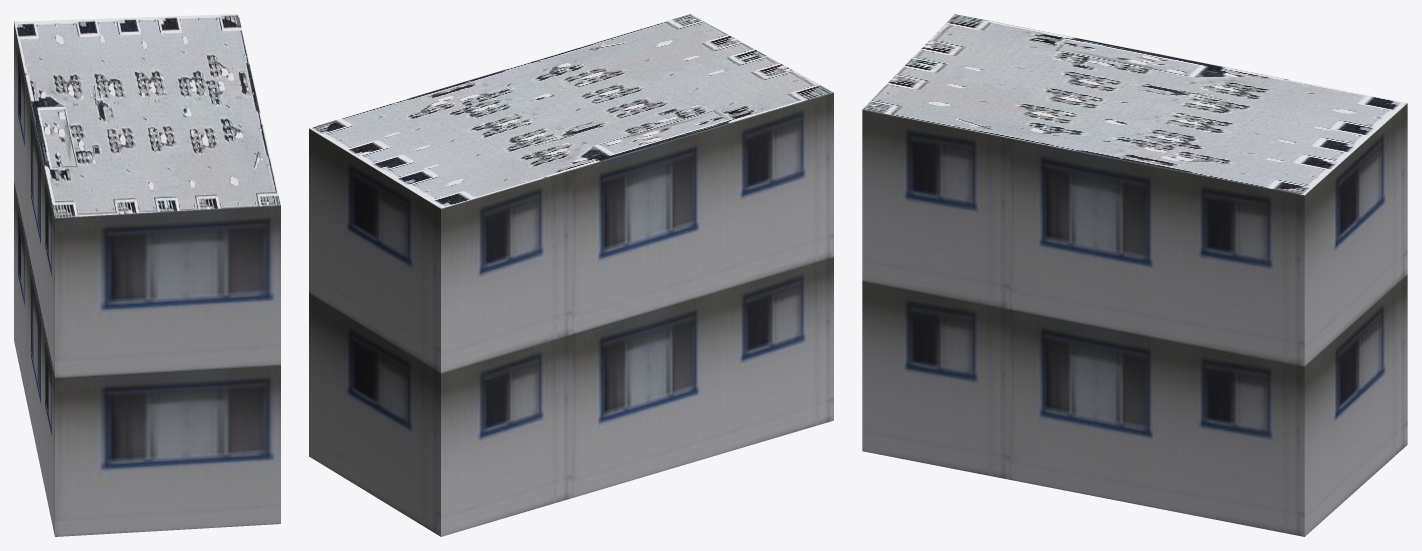
File: ResTex__5180.fbx
3 renders of one model, left to right at view 1: azimuth 30°, elevation 25°; view 2: azimuth 150°, elevation 25°; view 3: azimuth 270°, elevation 25°, orthographic. The views are drawn at different scales.
Visible parts, largest first — view 1: CityEngineMaterial_9_m, CityEngineMaterial_m; view 2: CityEngineMaterial_9_m, CityEngineMaterial_m; view 3: CityEngineMaterial_9_m, CityEngineMaterial_m.
Part boxes in pixels (x1=…): CityEngineMaterial_9_m: x1=14, y1=22, x2=280, y2=536; CityEngineMaterial_m: x1=14, y1=14, x2=280, y2=217; CityEngineMaterial_9_m: x1=309, y1=92, x2=833, y2=536; CityEngineMaterial_m: x1=309, y1=14, x2=833, y2=208; CityEngineMaterial_9_m: x1=862, y1=103, x2=1407, y2=536; CityEngineMaterial_m: x1=862, y1=14, x2=1407, y2=195.
Size of the model in its own units: 6.83 by 6 by 8.68.
2 materials, 2 textured.
